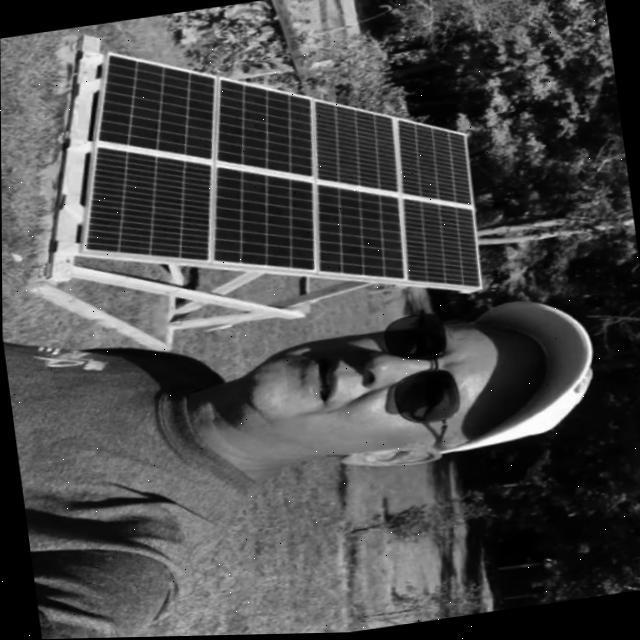Normal Solar Panel: (57, 3, 484, 344)
